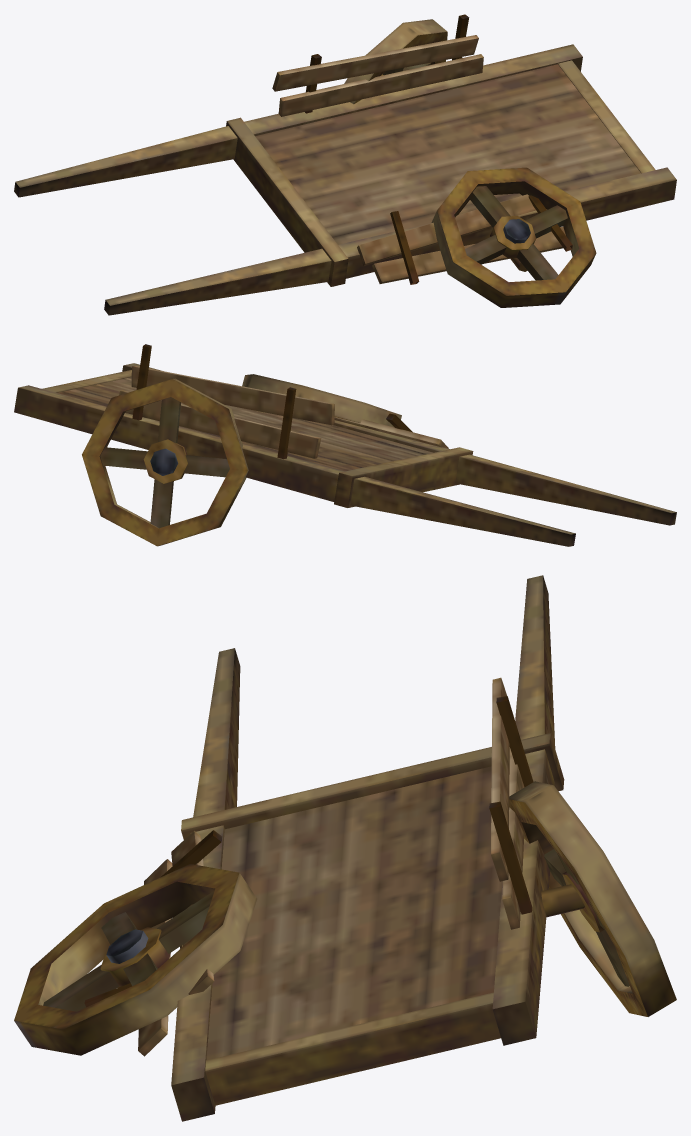
Rendered from b_general_obj_21_1.fbx.
The picture shows the model from 3 angles, top to bottom: view 1: azimuth 30°, elevation 25°; view 2: azimuth 150°, elevation 25°; view 3: azimuth 270°, elevation 25°; orthographic projection. The views are drawn at different scales.
Visible parts, largest first — view 1: Sphere02; view 2: Sphere02; view 3: Sphere02.
Boxes of the visible parts, box(x1,y1,x2,y2) form: Sphere02: box(14, 14, 676, 315); Sphere02: box(14, 344, 676, 546); Sphere02: box(14, 575, 676, 1121).
Size of the model in its own units: 4.87 by 1.44 by 3.09.
